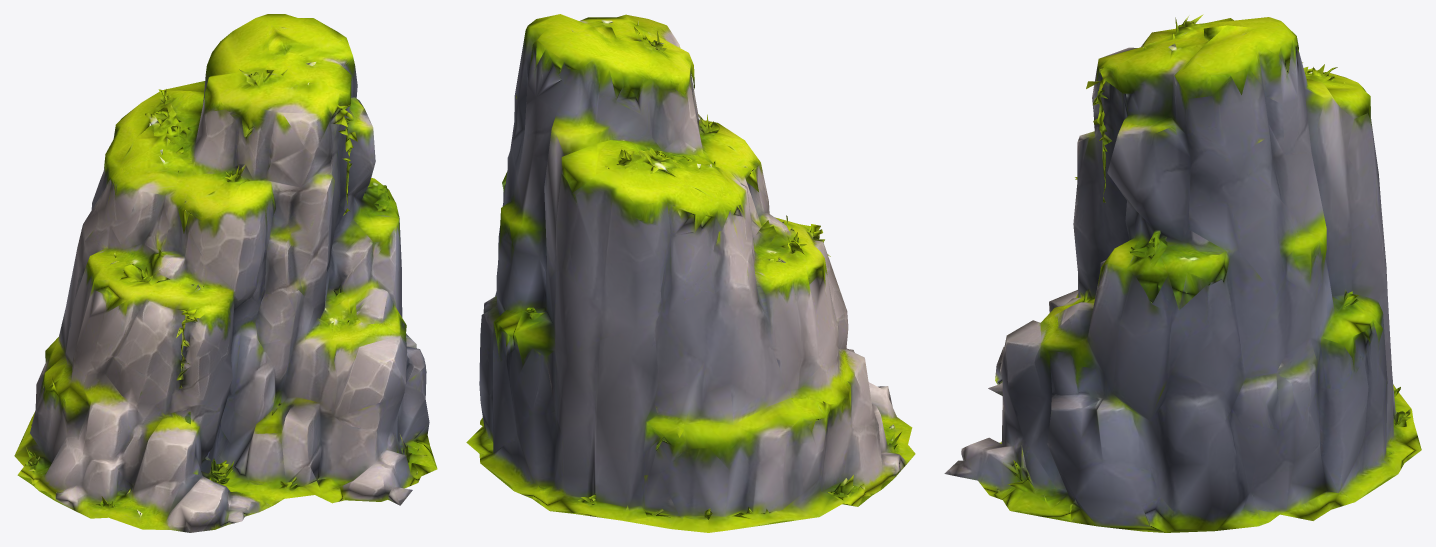
3 renders of one model, left to right at view 1: azimuth 30°, elevation 25°; view 2: azimuth 150°, elevation 25°; view 3: azimuth 270°, elevation 25°, orthographic. The views are drawn at different scales.
Parts seen in each view (by area): view 1: prop; view 2: prop; view 3: prop.
Part boxes in pixels (x1,y1,x2,y2): prop: (14,14,437,532); prop: (466,14,915,532); prop: (944,14,1421,532).
Size of the model in its own units: 0.9701 by 0.9909 by 0.9562.
Materials: 1 (1 with a texture image).
